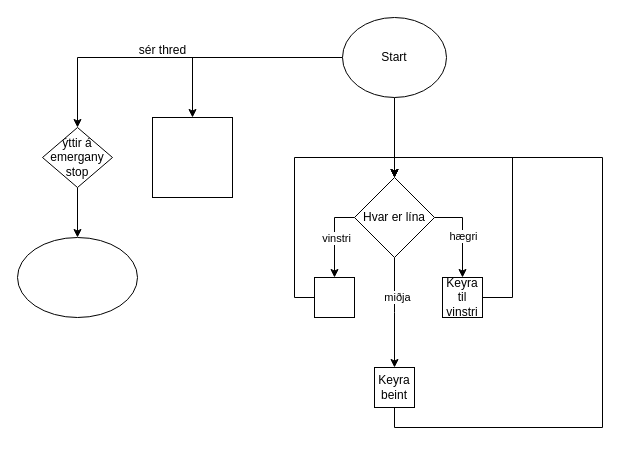
Some shapes in this 628 by 453 pixel diagram are drawn without their labels. The centre of each missing label's shape, as x and y in pixels:
end: (77,277)
Keyra til hægri: (334,297)
sér um að birta hvar róbot er á línu: (192,157)
